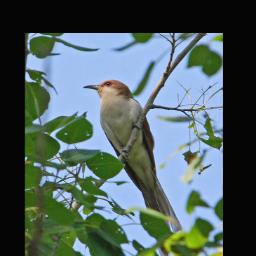Cuckoo: (82, 78, 187, 256)
